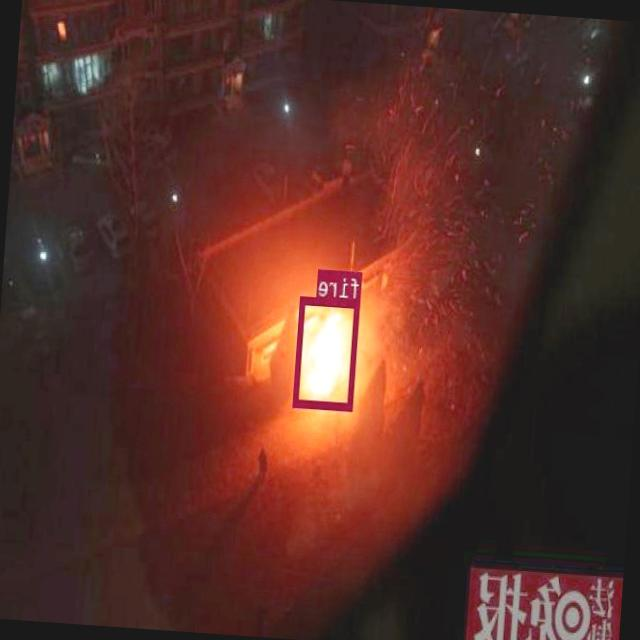fire: (293, 296, 361, 410)
